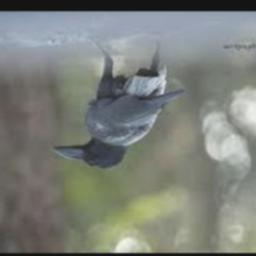Crow: (51, 38, 186, 169)
